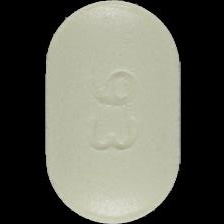76237-202: (0, 0, 224, 224)
